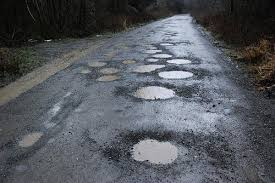pothole: (109, 122, 201, 183), (122, 79, 188, 108), (12, 128, 48, 146), (155, 69, 203, 82), (165, 56, 204, 67), (95, 73, 125, 86), (86, 59, 110, 70), (119, 56, 142, 67), (145, 54, 165, 64), (158, 40, 176, 51)
